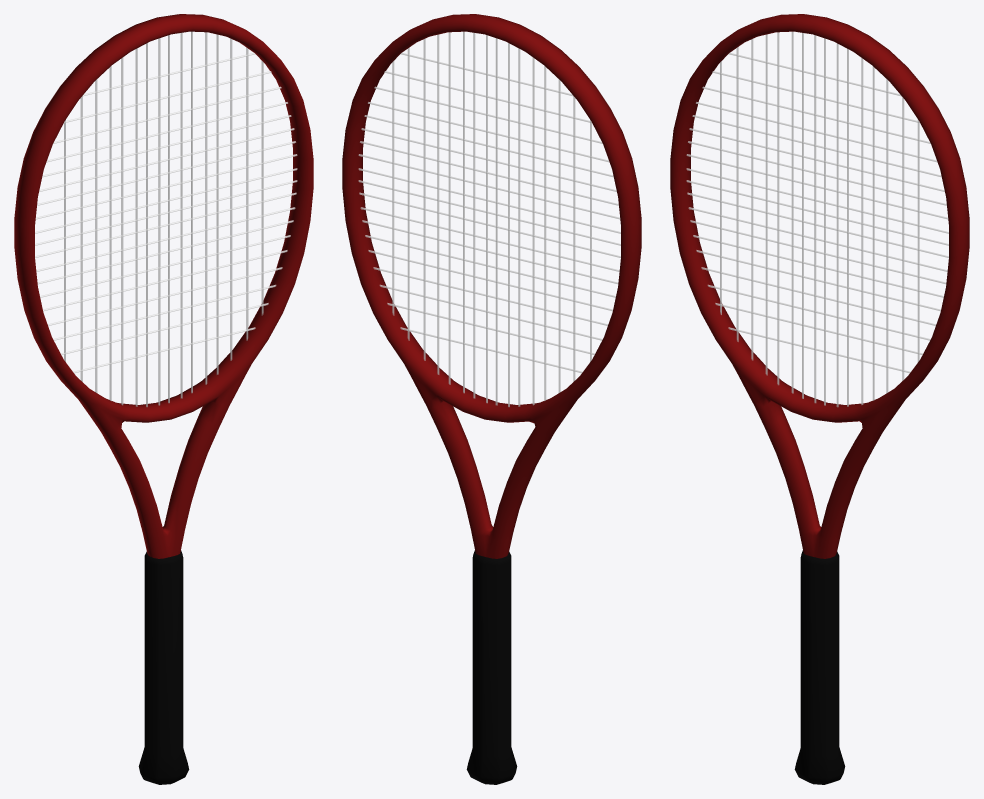
The model's file is 06-12-19_tennis_racket_export_v1.obj.
The picture shows the model from 3 angles, left to right: view 1: azimuth 30°, elevation 25°; view 2: azimuth 150°, elevation 25°; view 3: azimuth 330°, elevation 25°; orthographic projection.
Visible parts, largest first — view 1: TopPart, Threads, Handle; view 2: TopPart, Threads, Handle; view 3: TopPart, Threads, Handle.
Part boxes in pixels (left/top/right/bottom): TopPart: left=14, top=14, right=313, bottom=558; Threads: left=35, top=31, right=297, bottom=406; Handle: left=138, top=550, right=189, bottom=784; TopPart: left=342, top=14, right=641, bottom=558; Threads: left=358, top=31, right=620, bottom=406; Handle: left=466, top=550, right=517, bottom=784; TopPart: left=670, top=14, right=969, bottom=558; Threads: left=686, top=31, right=948, bottom=407; Handle: left=794, top=550, right=845, bottom=784.
Size of the model in its own units: 72.91 by 182 by 10.4.
